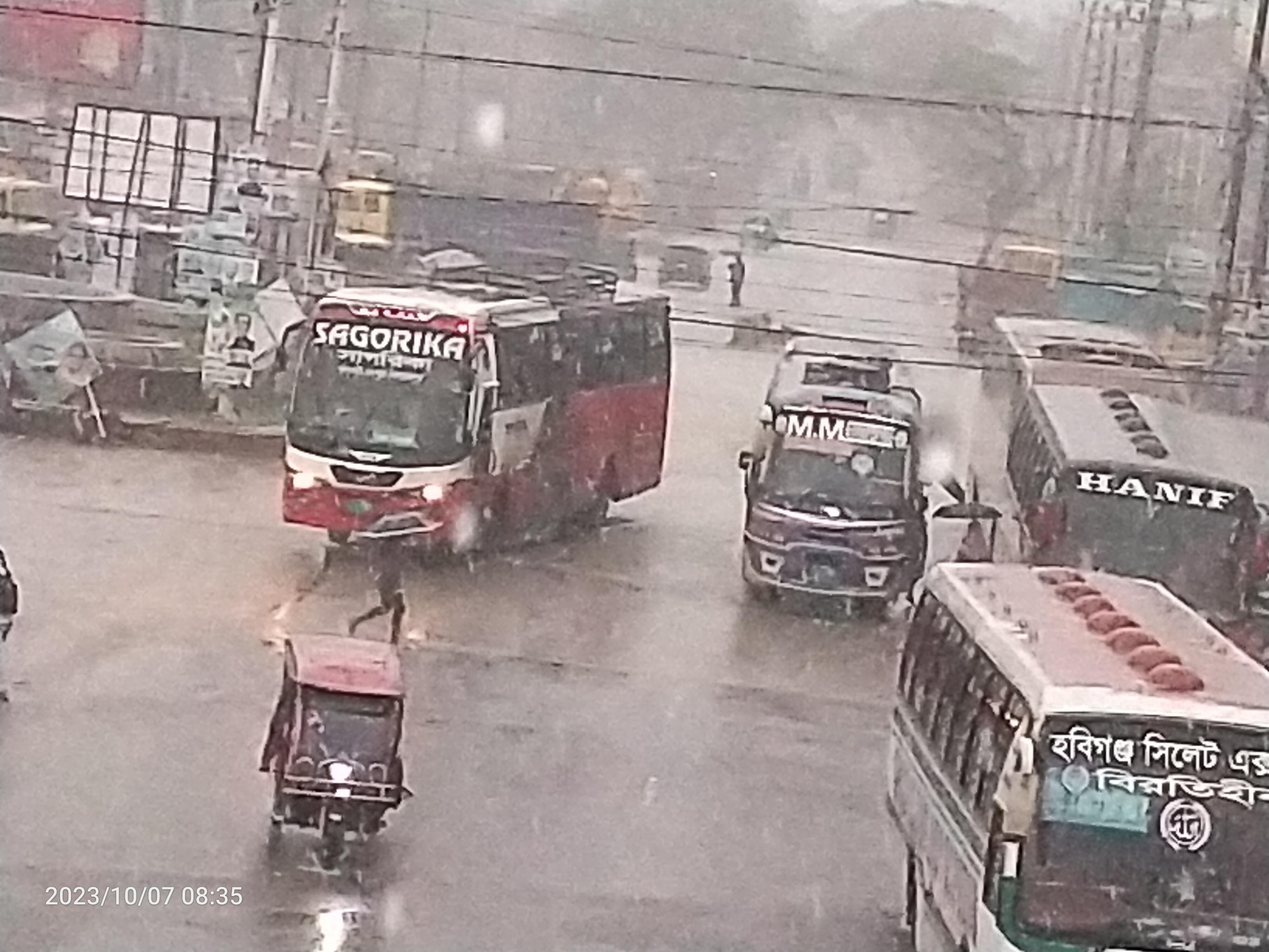Bus: (841, 524, 1269, 952), (254, 261, 708, 592), (970, 349, 1269, 645), (730, 344, 947, 631)
Car: (228, 612, 437, 881)
Truck: (299, 133, 630, 284)
